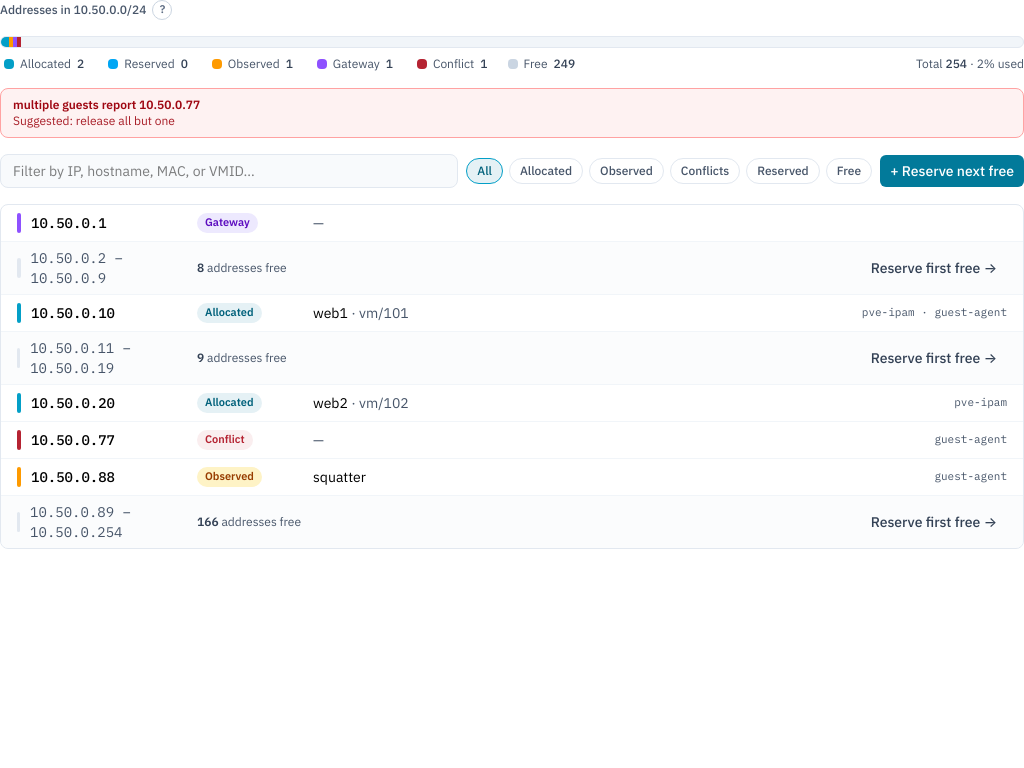
Test: AddressList › clicking an occupied address opens its detail dialog
Click the button with aria-label "10.50.0.10: Allocated": (73, 313) [1, 295, 1023, 332]
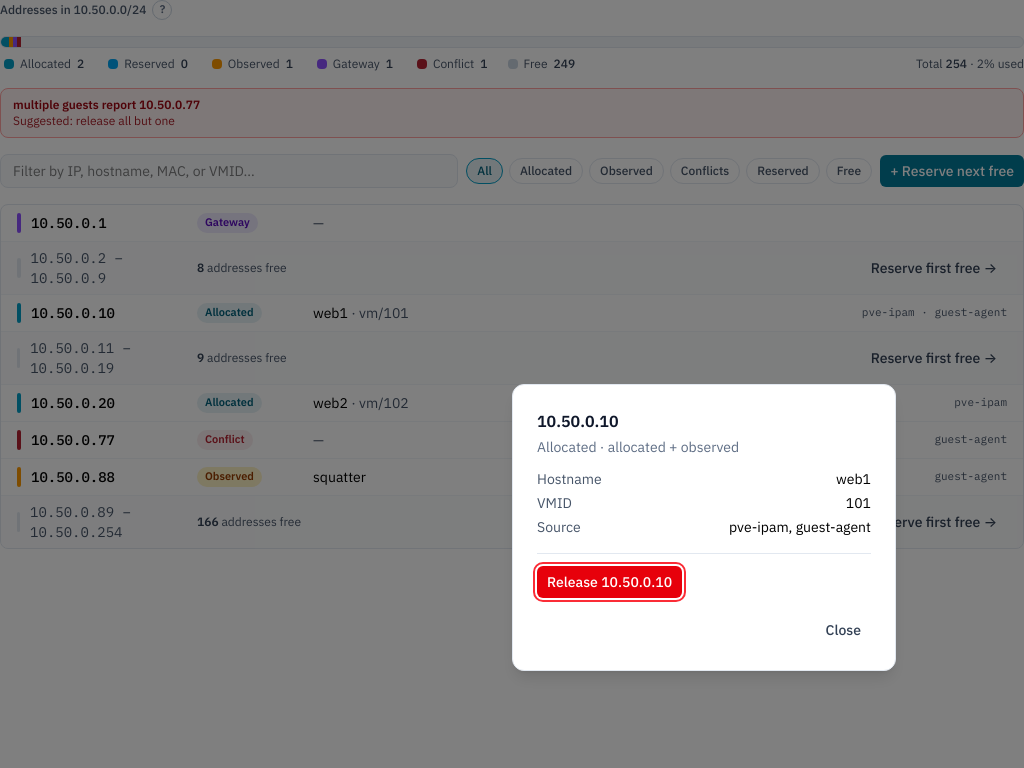
Now the heading "10.50.0.10" is shown, box [537, 411, 619, 431]
